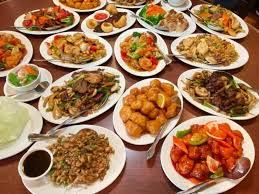Braised Crucian Carp: (158, 115, 254, 192), (21, 124, 126, 193), (112, 78, 183, 145), (38, 67, 122, 123), (177, 68, 258, 119), (171, 33, 249, 70), (112, 28, 169, 77), (39, 32, 110, 69), (189, 3, 249, 38), (135, 5, 195, 37), (13, 7, 78, 35), (80, 7, 134, 37)
